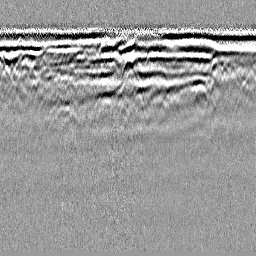cavity: (120, 58, 138, 80)
